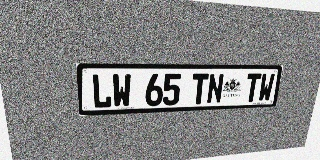5: (163, 74, 181, 106)
6: (145, 74, 164, 106)
L: (91, 74, 112, 109)
N: (206, 73, 224, 104)
T: (191, 74, 209, 104), (244, 73, 262, 102)
W: (112, 74, 131, 108), (257, 73, 275, 102)
